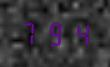four: (67, 20, 90, 47)
nine: (43, 19, 66, 47)
seven: (18, 19, 41, 46)
